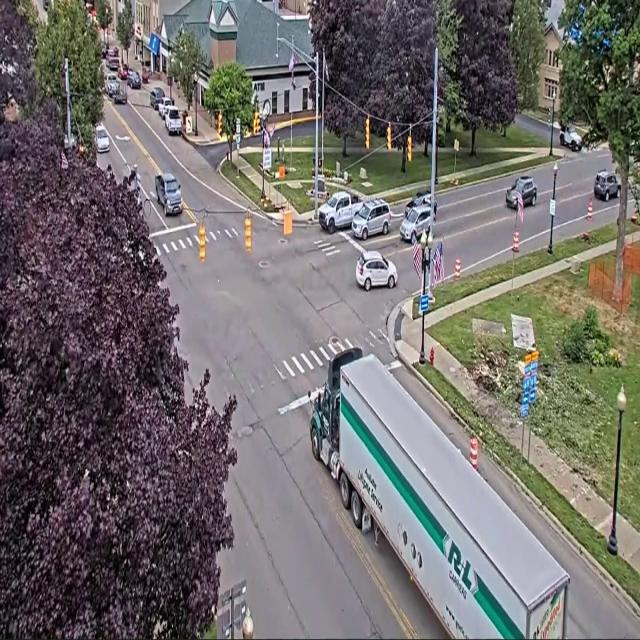car: (356, 251, 397, 291), (352, 199, 391, 240), (400, 202, 431, 244), (155, 173, 183, 215), (506, 176, 537, 208), (593, 170, 621, 201), (405, 191, 430, 216), (560, 125, 583, 151), (165, 106, 181, 135), (95, 125, 109, 152), (158, 96, 173, 119), (105, 73, 119, 97), (112, 82, 127, 103), (150, 88, 164, 110), (127, 71, 141, 88), (107, 56, 119, 71), (117, 64, 128, 79), (100, 41, 108, 59), (141, 68, 150, 83), (108, 47, 118, 57), (43, 0, 49, 11)
traffic signal: (245, 212, 251, 252), (199, 224, 205, 261), (407, 134, 413, 162), (386, 123, 392, 150), (253, 112, 260, 135), (365, 117, 369, 149), (217, 112, 222, 135), (548, 107, 552, 123)
truck: (309, 348, 569, 639), (318, 192, 362, 233)
